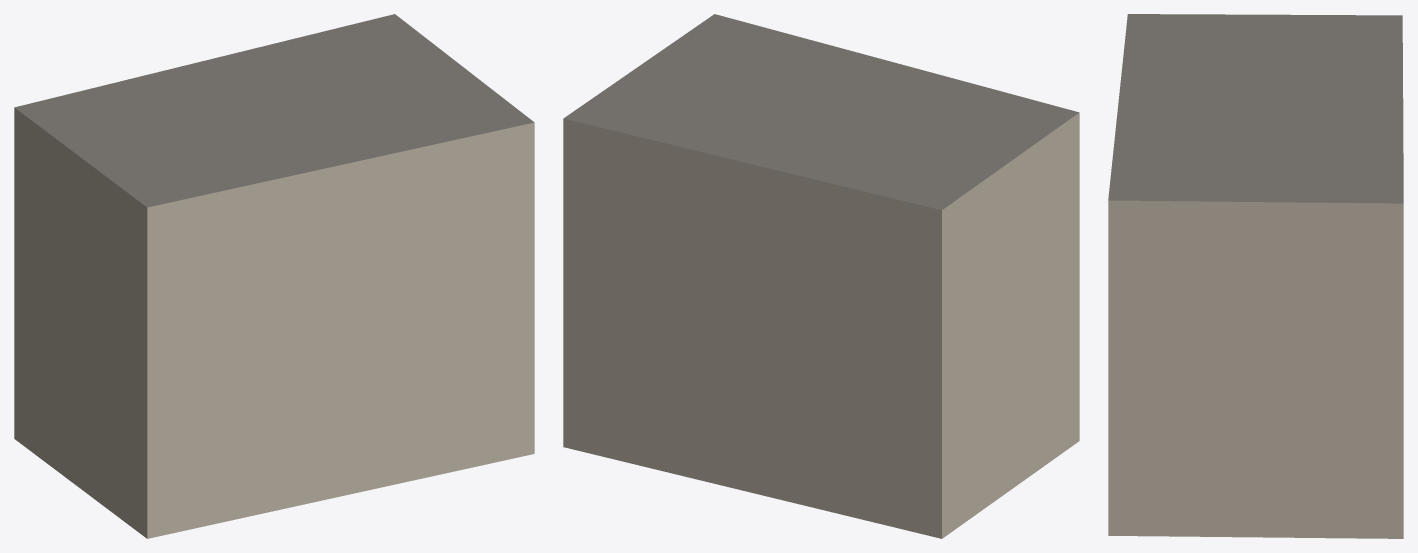
3 views of the same model, side by side, from view 1: azimuth 30°, elevation 25°; view 2: azimuth 150°, elevation 25°; view 3: azimuth 270°, elevation 25° (orthographic). The views are drawn at different scales.
Parts seen in each view (by area): view 1: HP-w442027169; view 2: HP-w442027169; view 3: HP-w442027169.
Part boxes in pixels (x1=…): HP-w442027169: x1=14, y1=14, x2=534, y2=538; HP-w442027169: x1=563, y1=14, x2=1079, y2=538; HP-w442027169: x1=1108, y1=14, x2=1403, y2=538.
Bounding box in the file's own units: 21.83 × 18 × 14.38.
